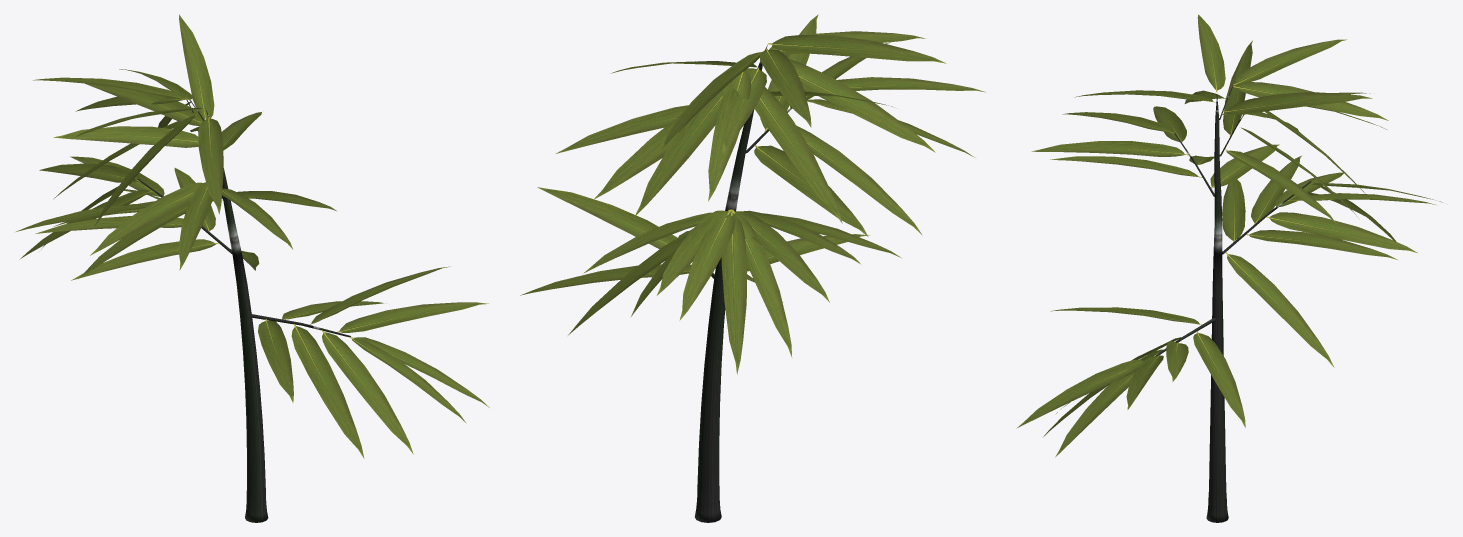
3 renders of one model, left to right at view 1: azimuth 30°, elevation 25°; view 2: azimuth 150°, elevation 25°; view 3: azimuth 270°, elevation 25°, orthographic. The views are drawn at different scales.
Visible parts, largest first — view 1: Baby_Bamboo_2.Shape; view 2: Baby_Bamboo_2.Shape; view 3: Baby_Bamboo_2.Shape.
Part boxes in pixels (<box>): Baby_Bamboo_2.Shape: <box>16,14,489,522</box>; Baby_Bamboo_2.Shape: <box>520,14,985,522</box>; Baby_Bamboo_2.Shape: <box>1016,14,1442,522</box>.
Size of the model in its own units: 0.236 by 0.2591 by 0.241.
Materials: 2 (2 with a texture image).
